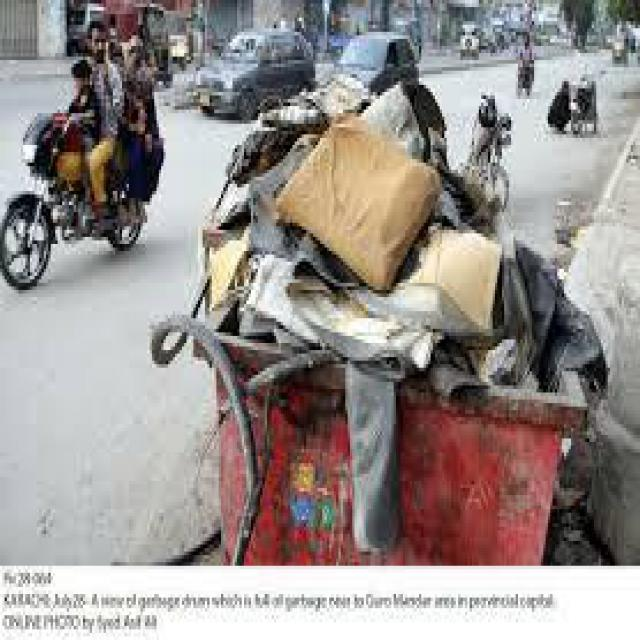garbage: (212, 120, 440, 378), (477, 240, 594, 418), (435, 187, 511, 382)
